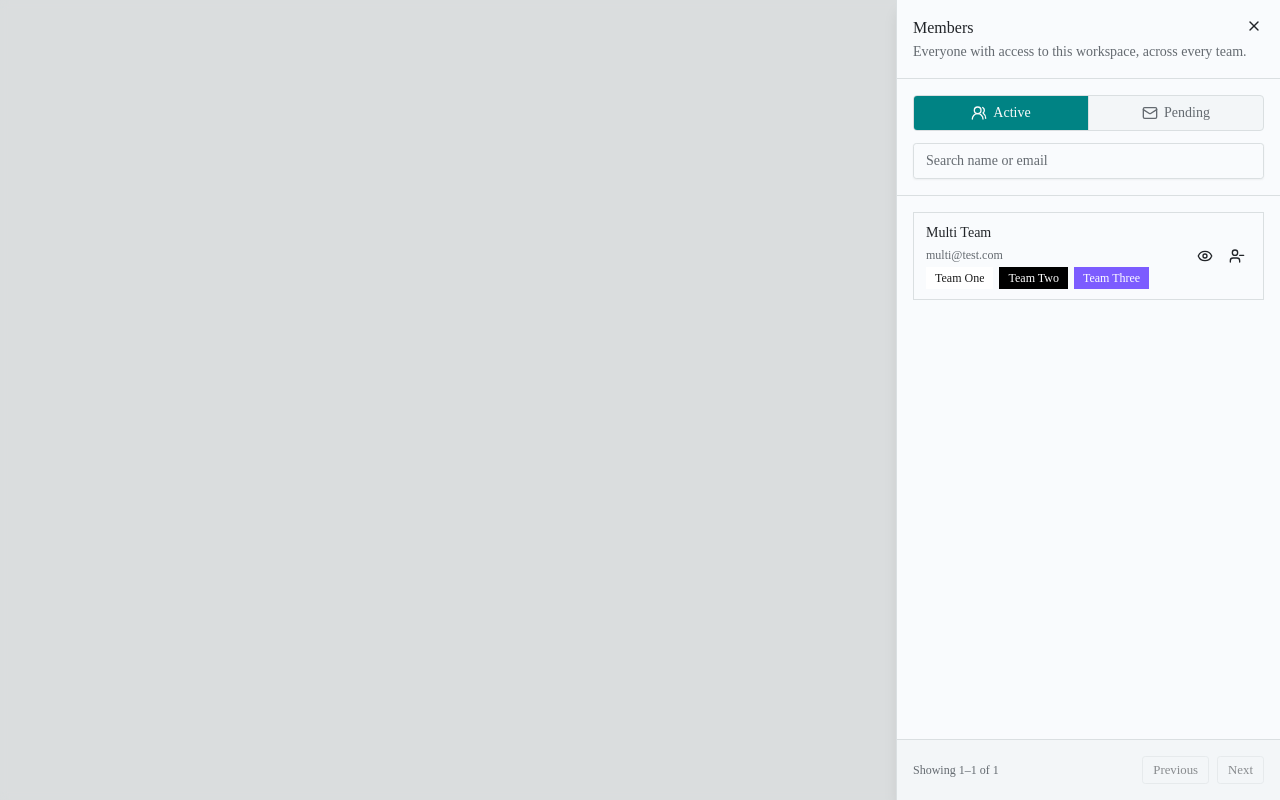
Test: ViewMembersSidebar › uses contrast-safe team pills and opens the full team list in member details
This screenshot has width=1280, height=800.
Expected: the text "Team Three" is shown, [1083,270,1140,286]
Expected: the text "Team Four" is not shown
Click the button named "View Multi Team" at (1205, 256), box [1191,242,1219,270]
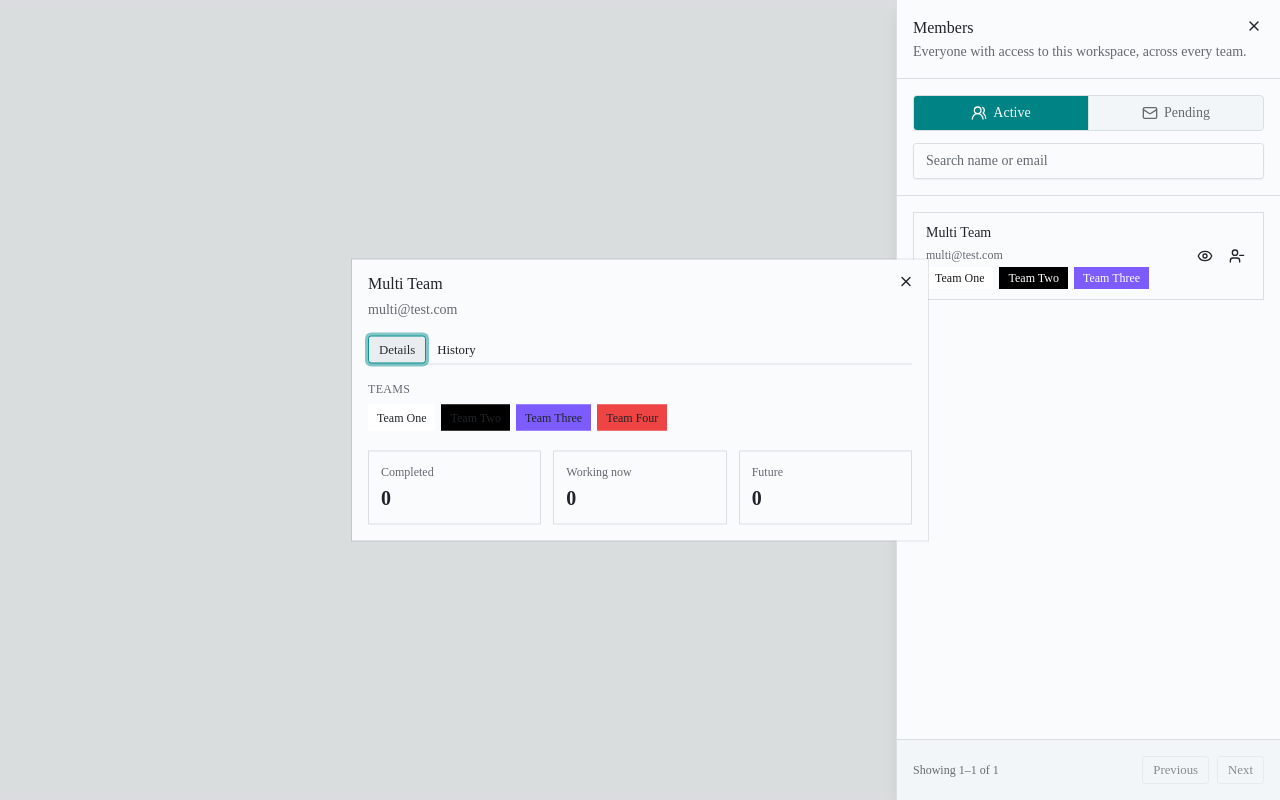
Expected: the text "Team Four" is shown, [597,404,667,430]
